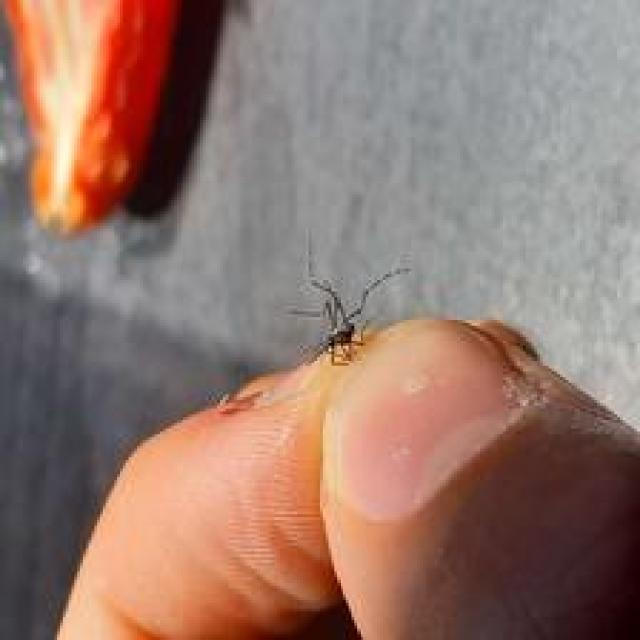Aedes albopictus: (286, 228, 411, 368)
